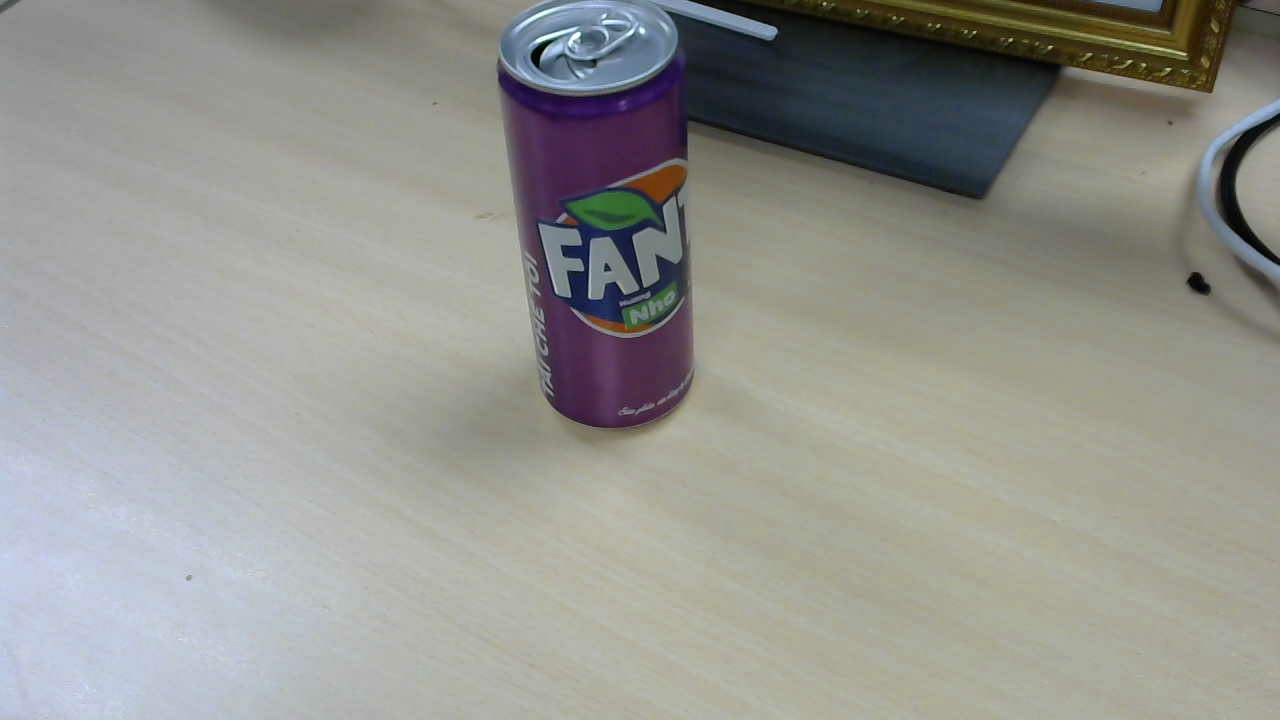Fanta: (497, 5, 704, 440)
